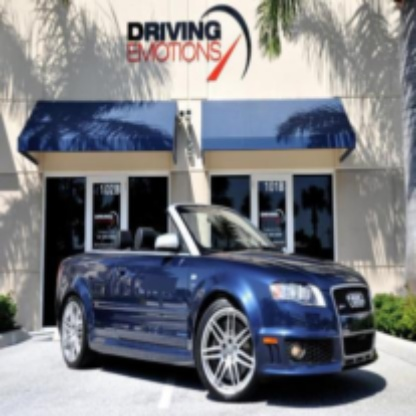Vehicle: (56, 204, 379, 403)
